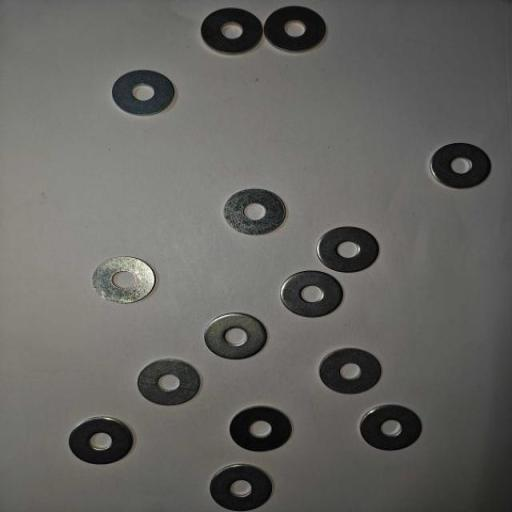washer: (318, 346, 382, 396), (69, 416, 134, 465), (136, 358, 202, 406), (203, 312, 268, 360), (264, 4, 326, 54), (280, 270, 344, 318), (92, 256, 156, 304), (316, 226, 380, 273), (210, 463, 272, 511), (224, 188, 286, 236), (229, 406, 293, 452), (112, 70, 176, 116), (360, 404, 422, 451), (430, 142, 491, 189), (201, 8, 263, 54)
